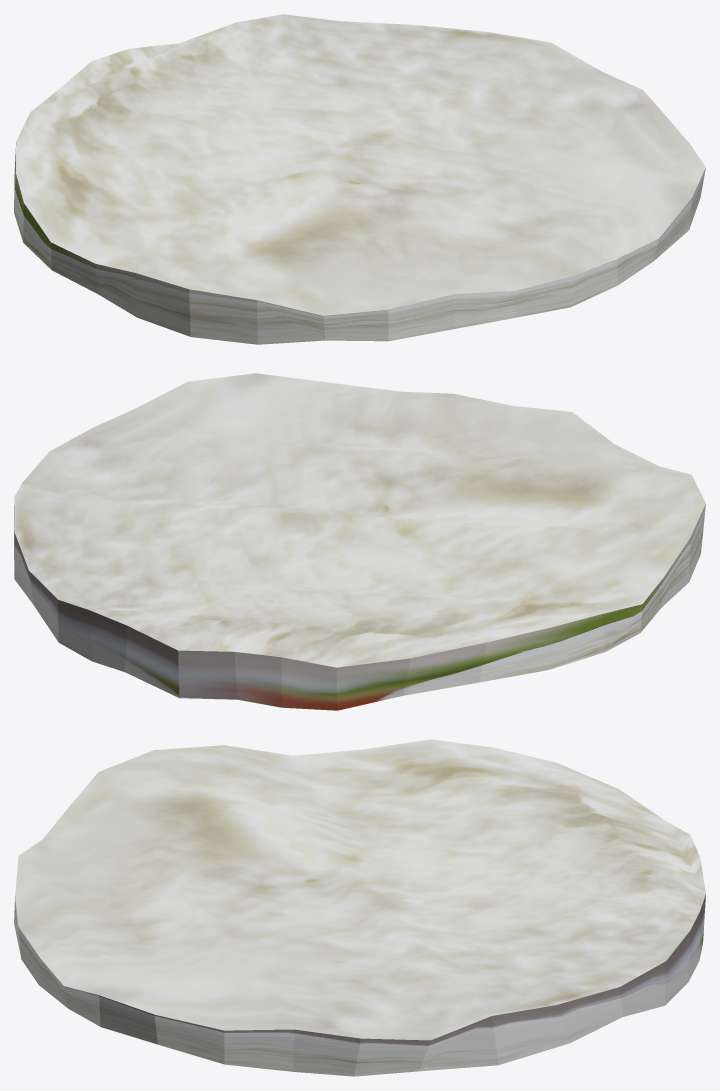
The model's file is mozzarella_los.glb.
3 renders of one model, top to bottom at view 1: azimuth 30°, elevation 25°; view 2: azimuth 150°, elevation 25°; view 3: azimuth 270°, elevation 25°, orthographic. The views are drawn at different scales.
Parts seen in each view (by area): view 1: Cylinder; view 2: Cylinder; view 3: Cylinder.
Boxes of the visible parts, x1,y1,x2,y2 form: Cylinder: (14, 14, 705, 344); Cylinder: (14, 373, 705, 710); Cylinder: (14, 739, 705, 1076).
Size of the model in its own units: 0.2289 by 0.023 by 0.2252.
Materials: 1 (1 with a texture image).
